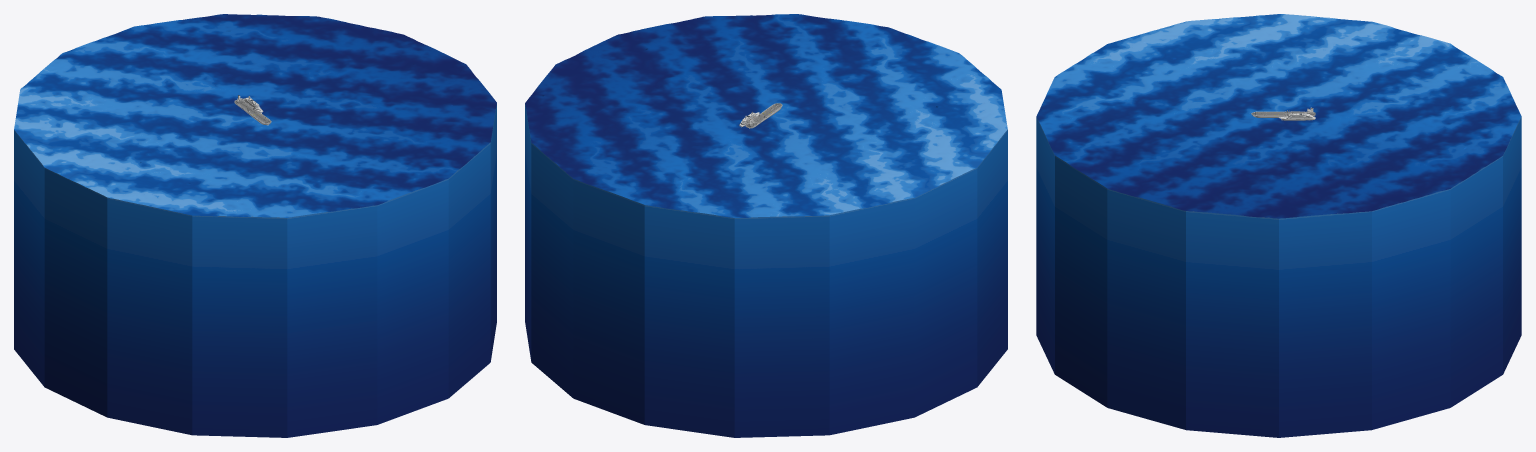
The model's file is ship.fbx.
The picture shows the model from 3 angles, left to right: view 1: azimuth 30°, elevation 25°; view 2: azimuth 150°, elevation 25°; view 3: azimuth 270°, elevation 25°; orthographic projection.
Parts seen in each view (by area): view 1: sea; view 2: sea; view 3: sea.
Part boxes in pixels (x1,y1,x2,y2): sea: (14,14,496,437); sea: (525,14,1007,437); sea: (1036,14,1521,437).
Size of the model in its own units: 2418 by 1251 by 2418.
Materials: 8 (3 with a texture image).
